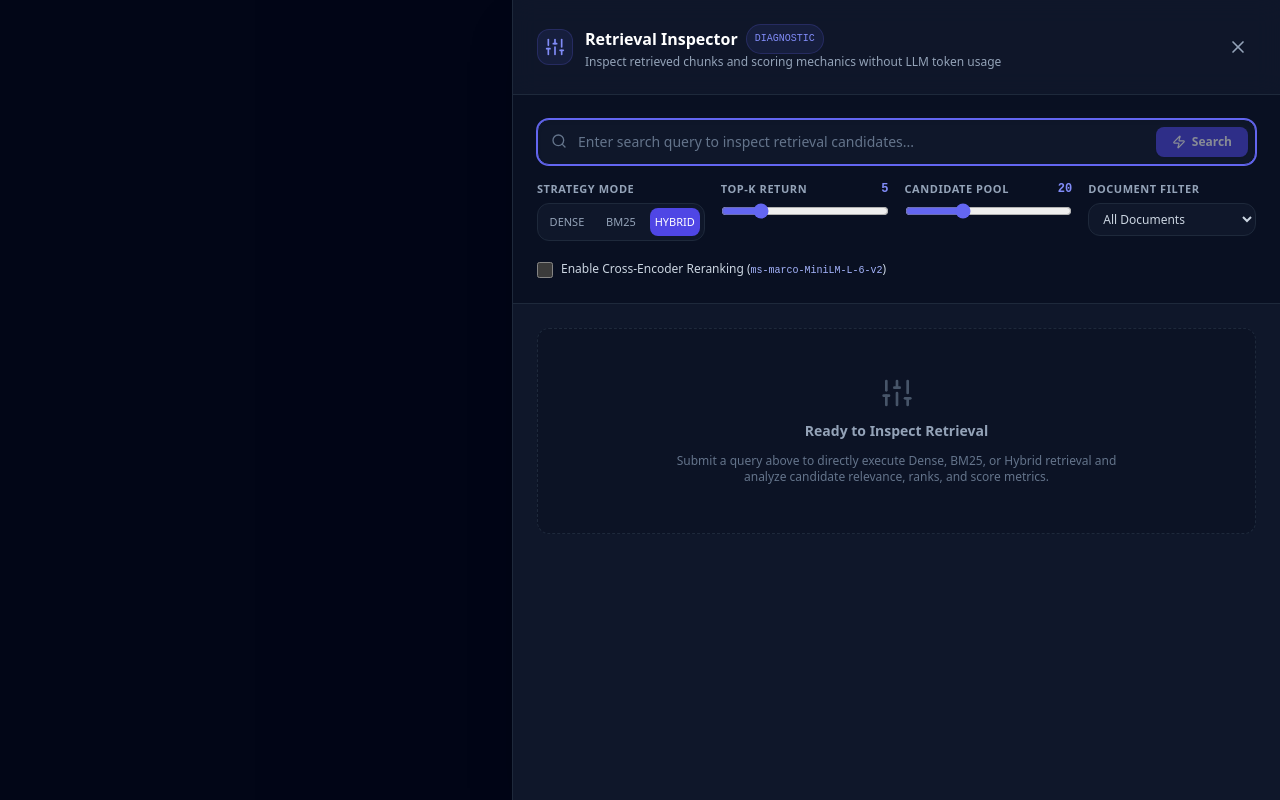
Test case: Frontend Component Verification Suite › 17. renders error banner when retrieval search throws an error
Step 1. Type "test fault" into the field with placeholder "Enter search query to inspect retrieval candidates..." → (896, 142), box [537, 119, 1256, 165]
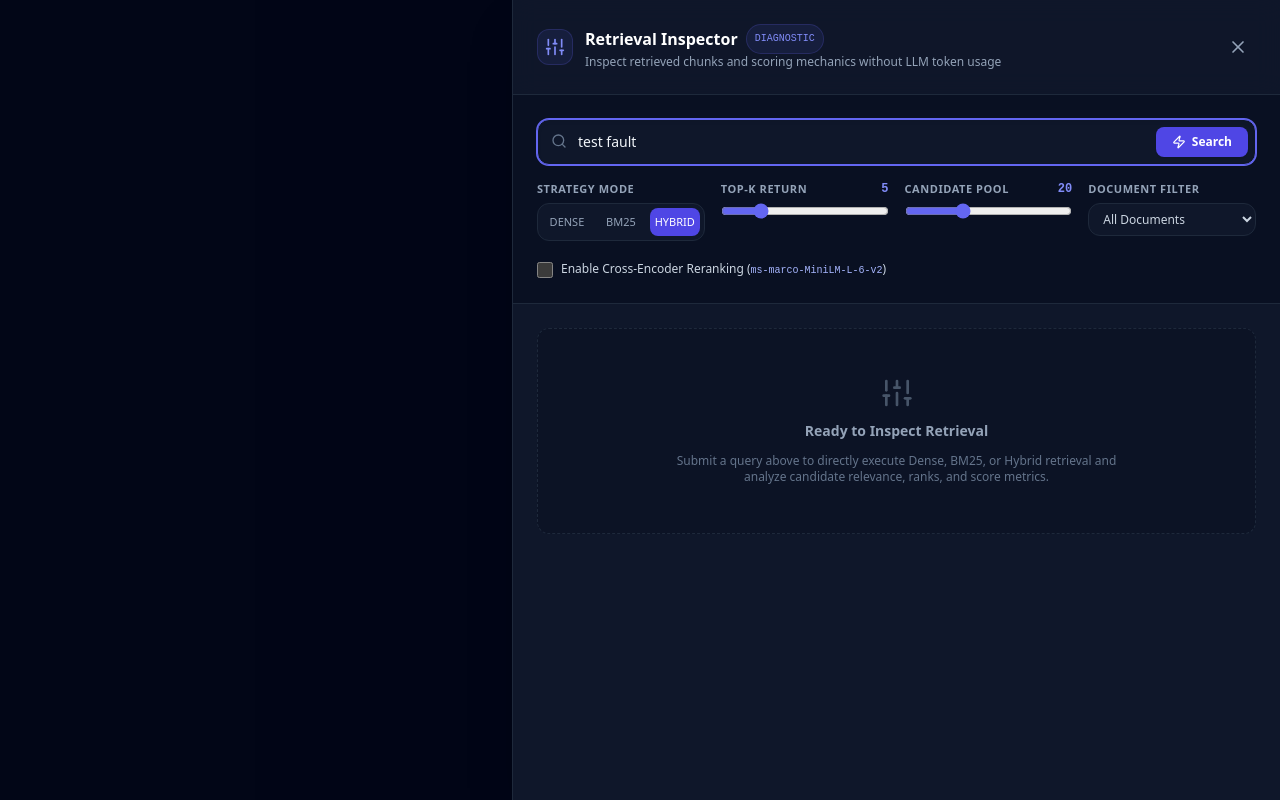
Step 2. Click the button "Search" → (1202, 142), box [1156, 127, 1248, 157]
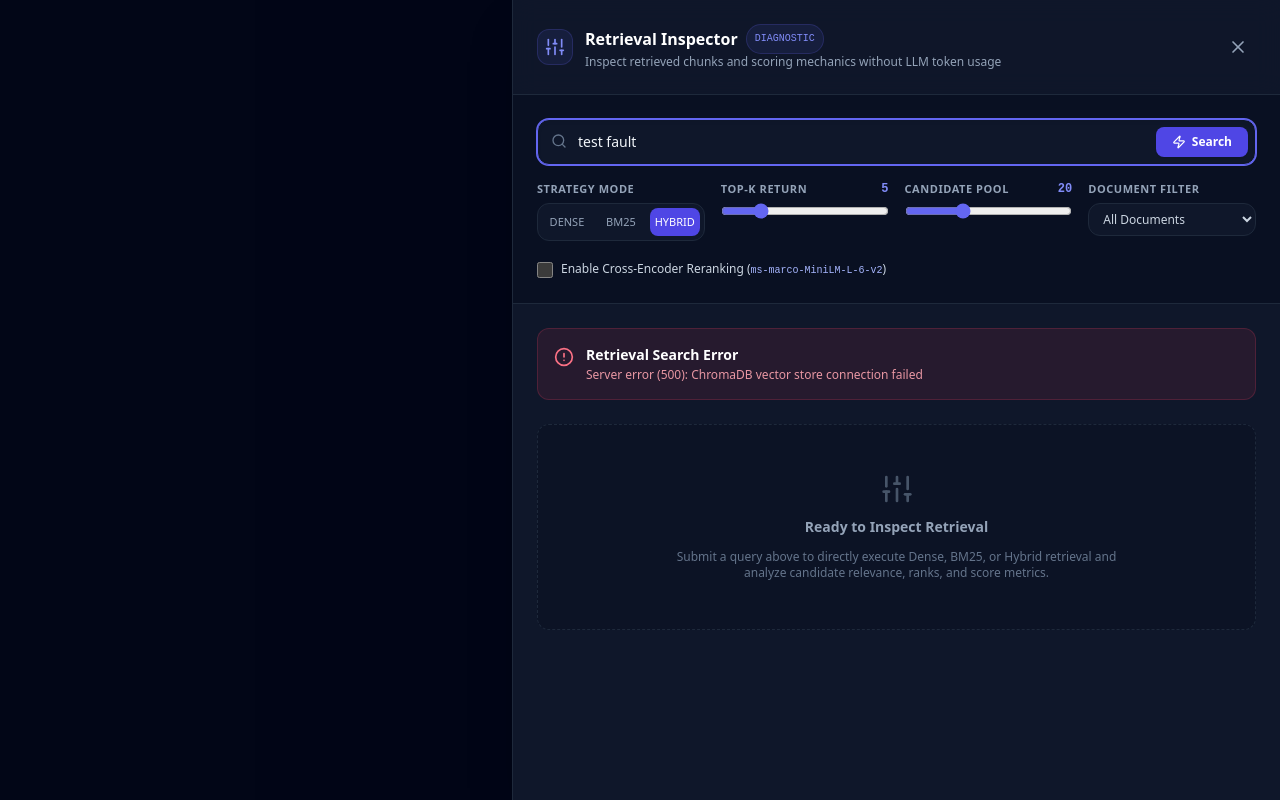
Result: the text "Retrieval Search Error" is shown at [586, 345, 738, 364]
Result: the text "Server error (500): ChromaDB vector store connection failed" is shown at [586, 367, 923, 383]
